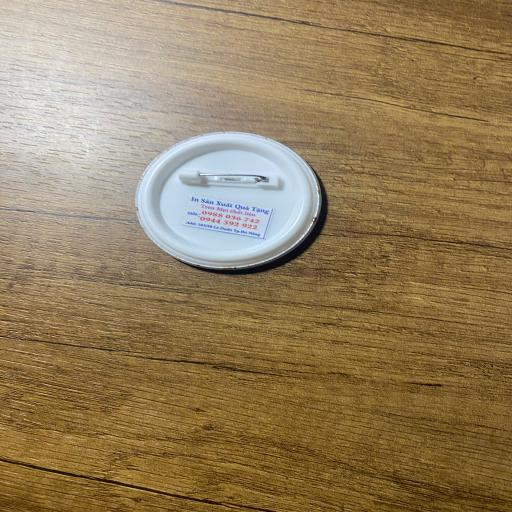HH: (137, 128, 321, 271)
